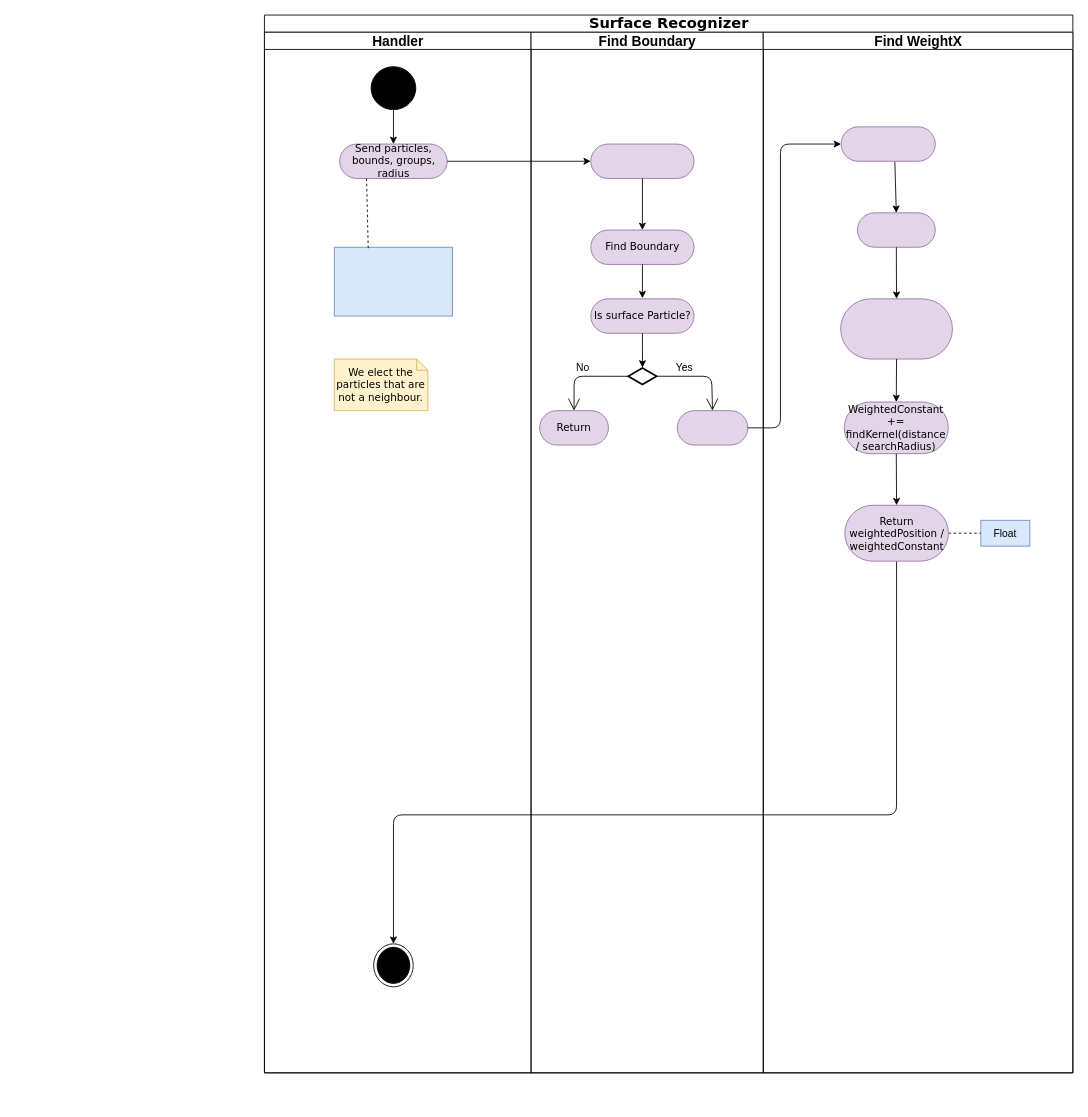
The diagram is 1088 pixels wide and 1117 high, and some of its shapes have lost their labels. The shapes that lost their labels are listed below. From the top down, each one's centre as x and y in pixels, then its label:
point 642,160: Set Data
point 887,143: Calculate Weight of x
point 896,229: For every neighbour particles:
point 393,281: Vector4[] particles, Bounds bounds, HashModel[] groups, float radius
point 896,328: Weighted Position += Particles * Find Kernel(distance / search Radius)
point 712,427: Find Neighbour Particles
